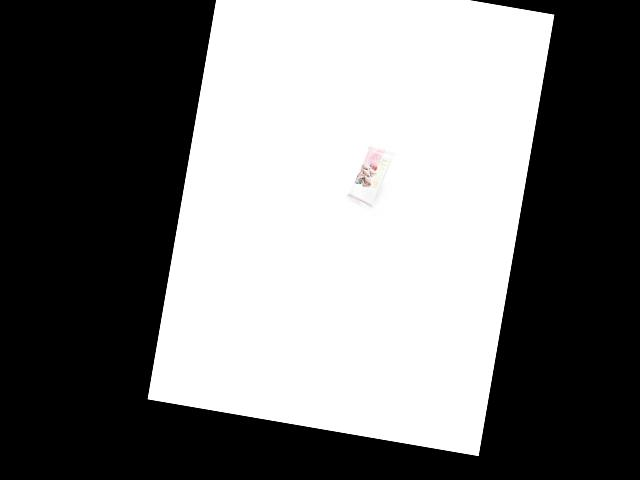chocolate: (344, 143, 395, 208)
